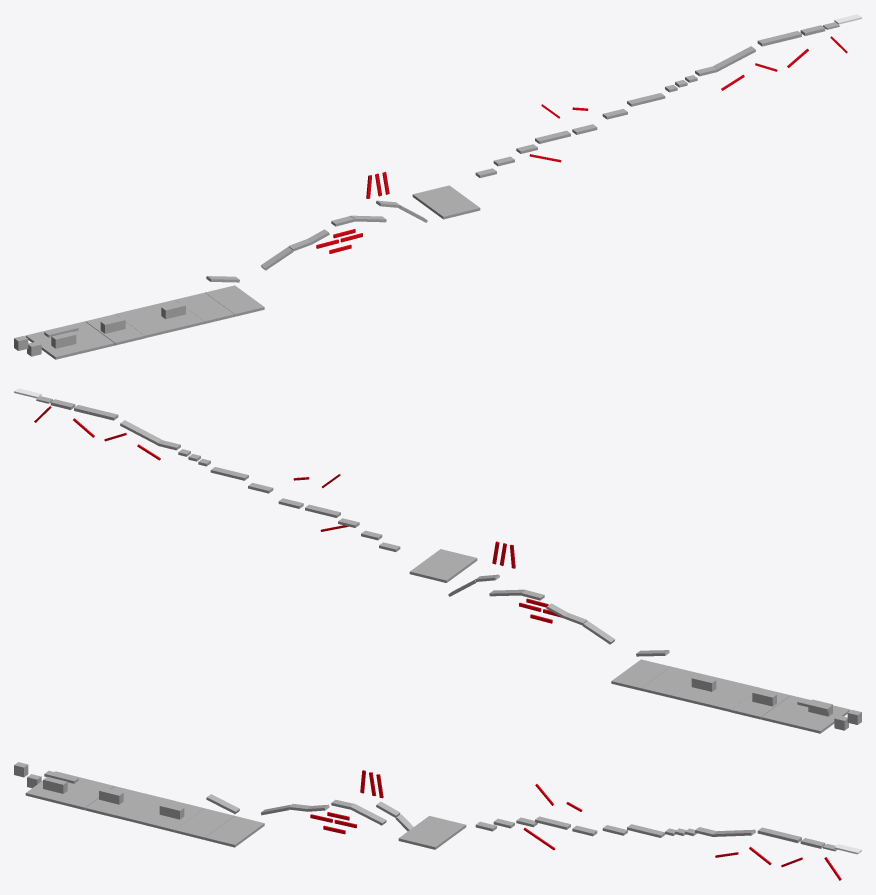
The model's file is platforms.fbx.
3 renders of one model, top to bottom at view 1: azimuth 30°, elevation 25°; view 2: azimuth 150°, elevation 25°; view 3: azimuth 330°, elevation 25°, orthographic.
Visible parts, largest first — view 1: Platform__15_, Platform__22_, Platform__25_, Platform__23_, Platform__27_, Platform__26_, Platform__28_, Platform__24_; view 2: Platform__15_, Platform__22_, Platform__25_, Platform__23_, Platform__27_, Platform__28_, Platform__26_, Platform__24_; view 3: Platform__15_, Platform__22_, Platform__23_, Platform__25_, Platform__27_, Platform__26_, Platform__24_, Platform__28_, Platform__32_, Platform__34_, Platform__2_, Platform__33_ (+3 smaller).
Part boxes in pixels (x1,y1,x2,y2): Platform__15_: (412, 185, 480, 219); Platform__22_: (205, 285, 264, 316); Platform__25_: (115, 307, 174, 338); Platform__23_: (175, 292, 234, 323); Platform__27_: (56, 321, 114, 352); Platform__26_: (85, 314, 144, 345); Platform__28_: (25, 328, 84, 359); Platform__24_: (145, 299, 204, 330); Platform__15_: (409, 549, 477, 582); Platform__22_: (611, 659, 670, 690); Platform__25_: (701, 681, 760, 712); Platform__23_: (641, 666, 700, 697); Platform__27_: (761, 695, 810, 726); Platform__28_: (791, 705, 850, 733); Platform__26_: (731, 688, 790, 719); Platform__24_: (671, 673, 730, 704); Platform__15_: (398, 816, 466, 849); Platform__22_: (205, 816, 264, 847); Platform__23_: (175, 808, 234, 839); Platform__25_: (115, 793, 174, 824); Platform__27_: (55, 778, 114, 810); Platform__26_: (85, 786, 144, 817); Platform__24_: (145, 801, 204, 832); Platform__28_: (25, 771, 84, 802); Platform__32_: (159, 803, 184, 819); Platform__34_: (43, 776, 67, 793); Platform__2_: (757, 827, 801, 843); Platform__33_: (99, 787, 123, 804).
Bounding box in the file's own units: 54021 × 8372 × 4142.
